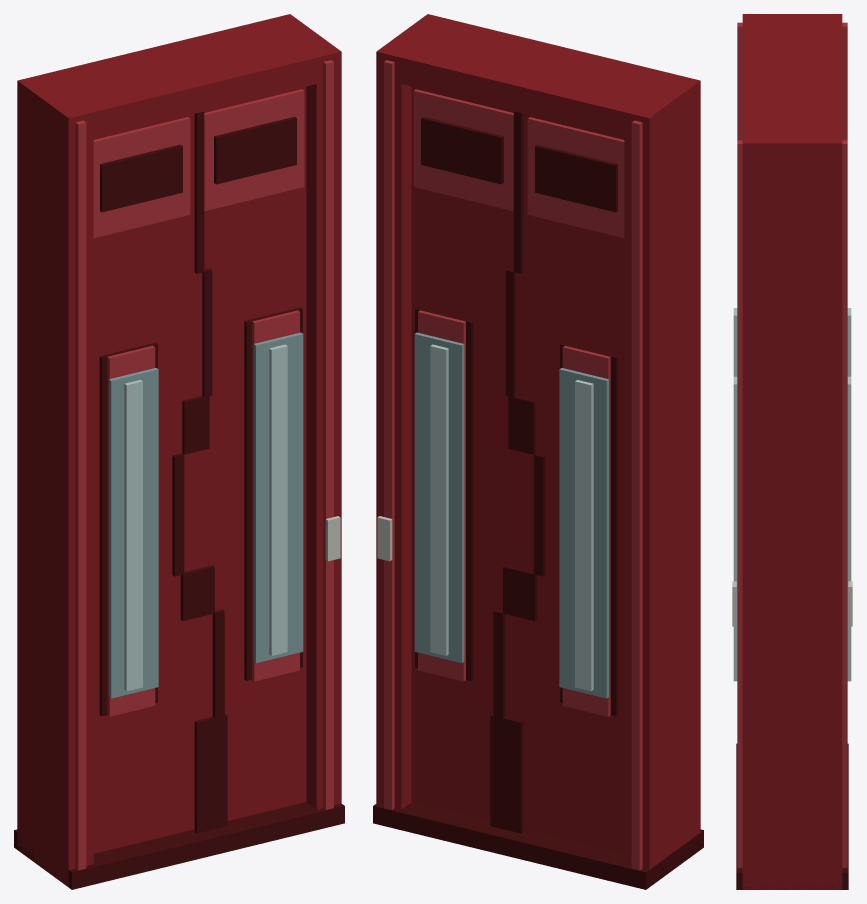
The model's file is CMU3DSingleSecDoorGlass.glb.
3 views of the same model, side by side, from view 1: azimuth 30°, elevation 25°; view 2: azimuth 150°, elevation 25°; view 3: azimuth 270°, elevation 25° (orthographic). The views are drawn at different scales.
Parts seen in each view (by area): view 1: closed leaf body, door jamb (×2), glass port (×2), header, jamb raised edge (×2), leaf meeting seam (×7), glass reflection (×2), upper inset band (×2), upper dark inset (×2), threshold, window dark surround (×2), chamfered window shoulder (×2) (+1 smaller); view 2: closed leaf body, door jamb (×2), glass port back (×2), header, jamb raised edge (×2), leaf meeting seam back (×7), glass reflection back (×2), upper inset band back (×2), threshold, upper dark inset back (×2), window dark surround back (×2), chamfered window shoulder back (×2) (+1 smaller); view 3: door jamb (×2), header, jamb raised edge (×4), glass reflection (×2), glass reflection back (×2), threshold.
Boxes of the visible parts, box(x1,y1,x2,y2) form: closed leaf body: box(93, 86, 306, 853); door jamb (×2): box(17, 14, 341, 887); glass port (×2): box(109, 332, 303, 698); header: box(17, 14, 341, 144); jamb raised edge (×2): box(75, 60, 333, 870); leaf meeting seam (×7): box(172, 111, 227, 833); glass reflection (×2): box(124, 344, 287, 691); upper inset band (×2): box(93, 89, 304, 238); upper dark inset (×2): box(100, 116, 296, 212); threshold: box(14, 802, 344, 889); window dark surround (×2): box(99, 307, 302, 716); chamfered window shoulder (×2): box(107, 310, 299, 716); closed leaf body: box(411, 86, 624, 853); door jamb (×2): box(376, 14, 700, 869); glass port back (×2): box(414, 332, 608, 698); header: box(376, 14, 700, 144); jamb raised edge (×2): box(384, 60, 642, 870); leaf meeting seam back (×7): box(490, 111, 545, 833); glass reflection back (×2): box(430, 344, 593, 691); upper inset band back (×2): box(413, 89, 624, 238); threshold: box(373, 802, 703, 889); upper dark inset back (×2): box(421, 116, 617, 212); window dark surround back (×2): box(415, 307, 618, 716); chamfered window shoulder back (×2): box(418, 310, 610, 716); door jamb (×2): box(742, 14, 842, 889); header: box(742, 14, 842, 168); jamb raised edge (×4): box(737, 22, 847, 867); glass reflection (×2): box(733, 308, 737, 681); glass reflection back (×2): box(847, 308, 851, 681); threshold: box(736, 743, 848, 889).
Size of the model in its own units: 0.98 by 2.64 by 0.386.
